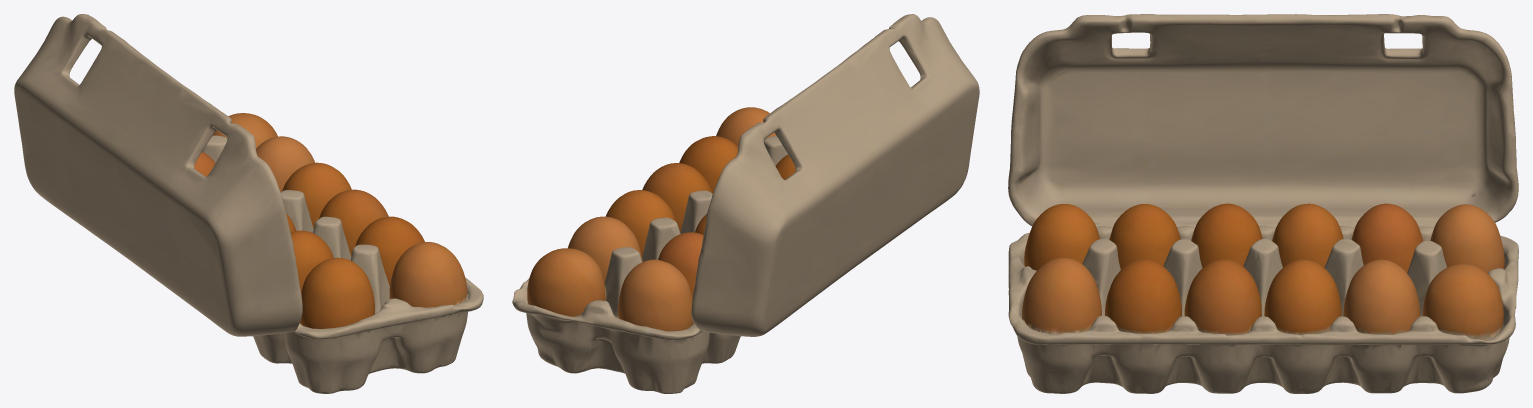
File: huevera.glb
3 views of the same model, side by side, from view 1: azimuth 30°, elevation 25°; view 2: azimuth 150°, elevation 25°; view 3: azimuth 270°, elevation 25° (orthographic). The views are drawn at different scales.
Parts seen in each view (by area): view 1: tripo_node_9d5d0a75-677c-478d-9d70-3ff032733898; view 2: tripo_node_9d5d0a75-677c-478d-9d70-3ff032733898; view 3: tripo_node_9d5d0a75-677c-478d-9d70-3ff032733898.
Boxes of the visible parts, x1,y1,x2,y2 form: tripo_node_9d5d0a75-677c-478d-9d70-3ff032733898: (14,14,483,393); tripo_node_9d5d0a75-677c-478d-9d70-3ff032733898: (512,14,979,393); tripo_node_9d5d0a75-677c-478d-9d70-3ff032733898: (1008,14,1518,393).
Size of the model in its own units: 0.651 by 0.6026 by 0.9997.
1 material, 1 textured.
